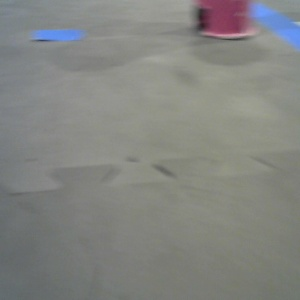Right: (180, 1, 290, 149)
